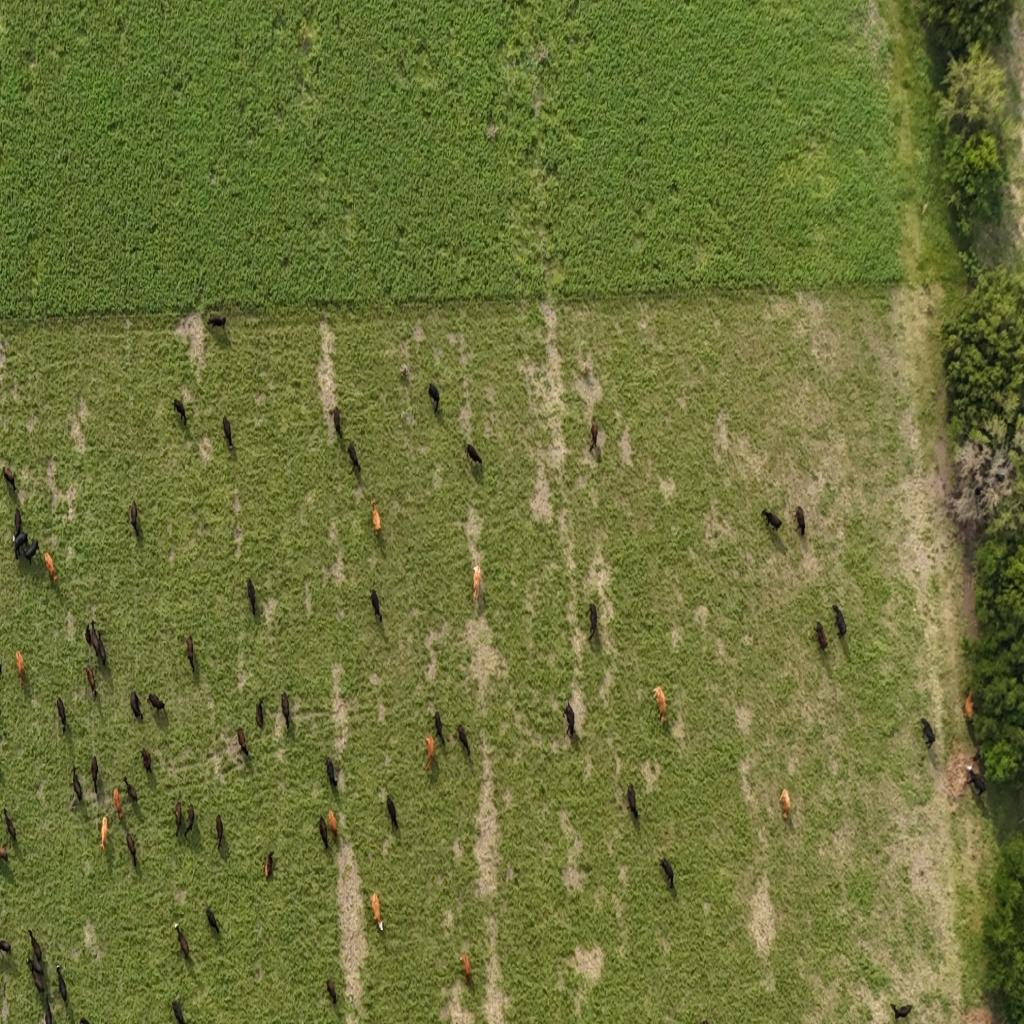cow: (178, 906, 223, 958), (130, 679, 168, 725), (87, 630, 110, 686), (54, 966, 74, 1002), (25, 960, 47, 992), (28, 928, 44, 965), (653, 685, 667, 726), (966, 770, 987, 797), (626, 782, 640, 822), (3, 807, 17, 846), (0, 826, 14, 864), (176, 923, 190, 960), (920, 717, 936, 749), (832, 604, 847, 638), (43, 551, 58, 585), (659, 857, 674, 890), (762, 508, 782, 532), (13, 530, 28, 562), (372, 892, 384, 932), (347, 441, 361, 474), (23, 537, 40, 564), (563, 702, 575, 740), (370, 500, 382, 538), (126, 831, 138, 869), (236, 726, 250, 758), (386, 794, 398, 831), (71, 766, 83, 803), (890, 1002, 912, 1022), (39, 1001, 58, 1024), (86, 664, 98, 700), (331, 406, 343, 441), (124, 776, 139, 804), (206, 905, 220, 935), (92, 622, 104, 657), (587, 603, 598, 641), (370, 588, 382, 622), (458, 724, 470, 758), (318, 815, 329, 852), (56, 696, 67, 733), (173, 398, 187, 427), (327, 808, 338, 844), (326, 756, 338, 789), (779, 788, 791, 821), (434, 710, 446, 743), (2, 466, 16, 494), (815, 621, 828, 651), (112, 787, 123, 822), (466, 442, 482, 466), (16, 649, 26, 687), (246, 578, 256, 616), (185, 634, 195, 672), (129, 499, 139, 537), (222, 415, 233, 449), (184, 804, 195, 838), (428, 382, 440, 413), (424, 735, 434, 771), (460, 953, 472, 983), (472, 564, 481, 604), (130, 691, 142, 721), (86, 621, 97, 653), (172, 998, 186, 1023), (90, 754, 99, 792), (215, 814, 224, 852), (281, 691, 290, 729), (794, 506, 805, 537), (588, 418, 598, 452), (263, 851, 274, 881), (964, 714, 976, 740), (141, 746, 152, 774), (326, 977, 337, 1005), (965, 691, 975, 721), (100, 815, 108, 852), (255, 698, 264, 730), (207, 314, 226, 329), (970, 749, 983, 770), (174, 799, 182, 832), (14, 506, 22, 539), (0, 938, 13, 957), (0, 660, 4, 683), (79, 1016, 90, 1023)
